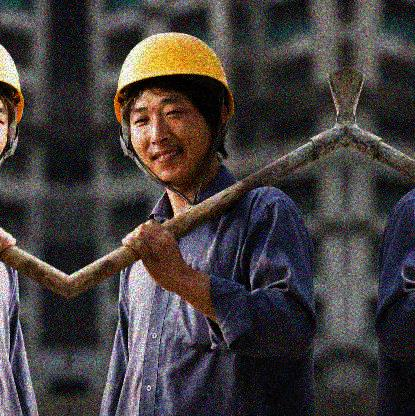helmet: (114, 33, 233, 185)
